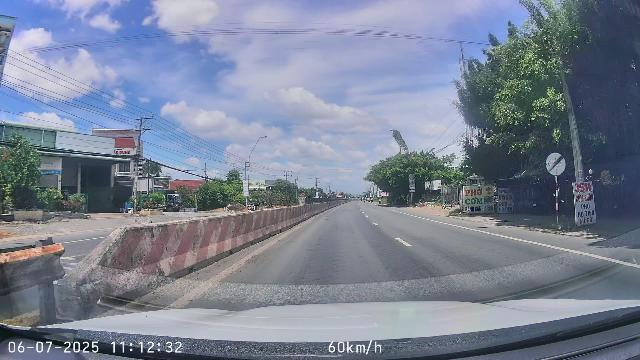133-het-cam-vuot: (545, 152, 567, 176)
